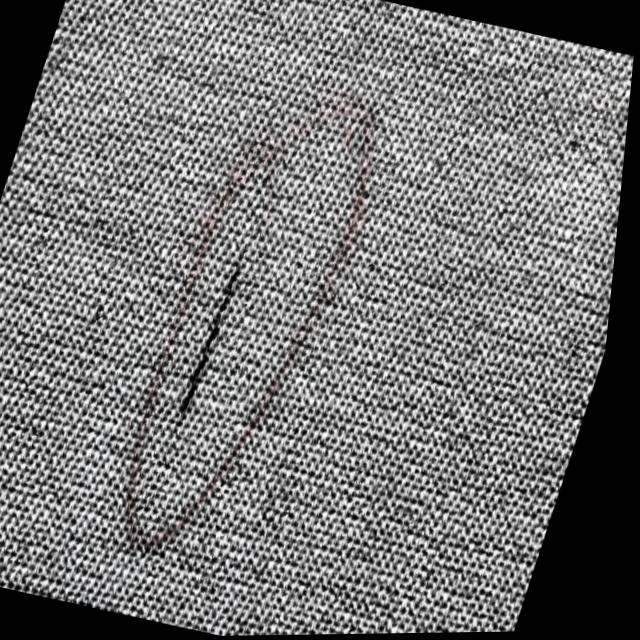Hole: (184, 247, 261, 418)
